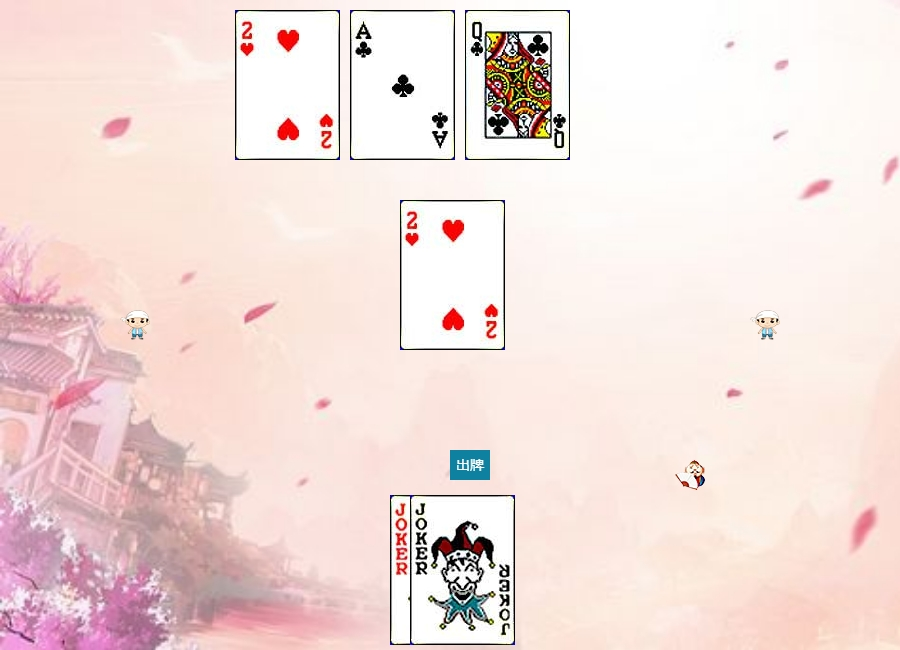12~2: (465, 10, 570, 160)
14~2: (350, 10, 455, 160)
15~3: (235, 10, 340, 160), (400, 200, 505, 350)
17~3: (410, 495, 515, 645)
18~4: (390, 495, 495, 645)
